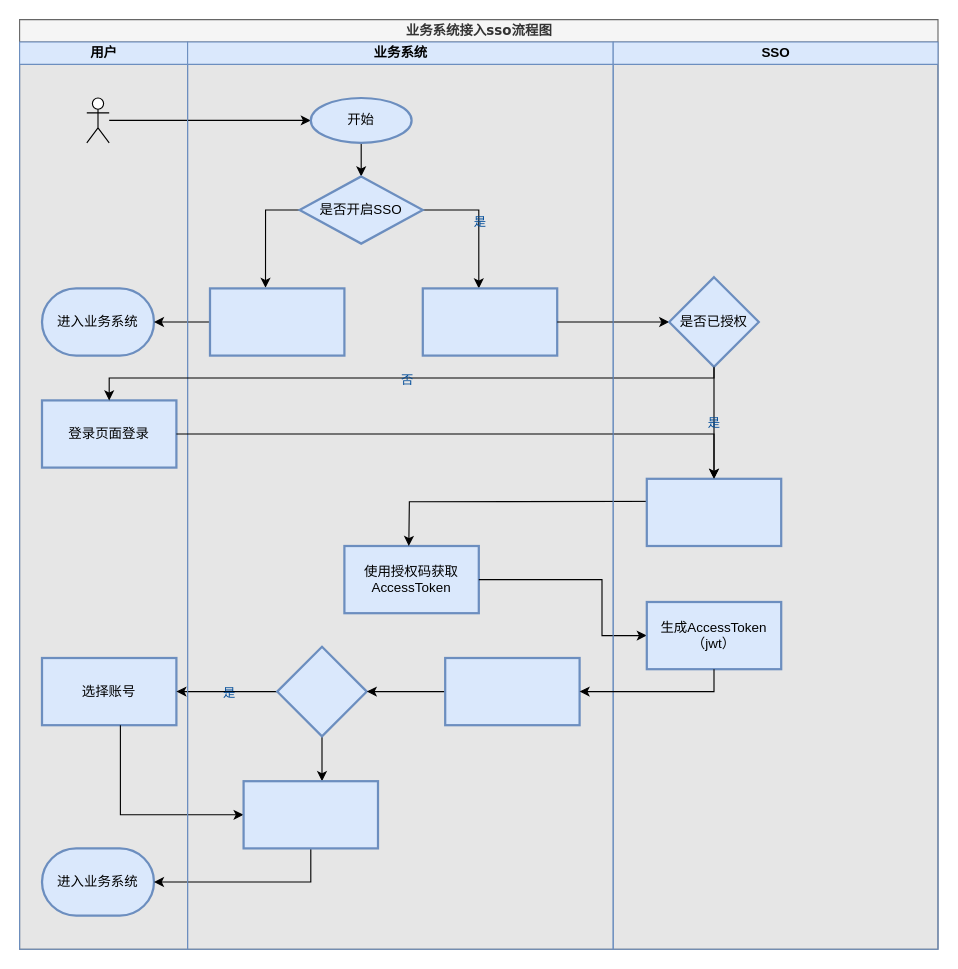
Some shapes in this 958 by 969 pixel diagram are drawn without their labels. The shapes that lost their labels are listed below. From the top down, each one's box as (x1, y1, x2, y2) in pixels, then its label:
(208, 287, 345, 356): 原有登录逻辑
(421, 287, 558, 356): 拼接SSO授权链接并跳转
(645, 477, 782, 547): 生成授权码并回调授权地址
(276, 645, 367, 737): 是否多账号
(444, 656, 580, 726): 解析token获取登录账号
(242, 780, 379, 849): 生成业务登录状态
